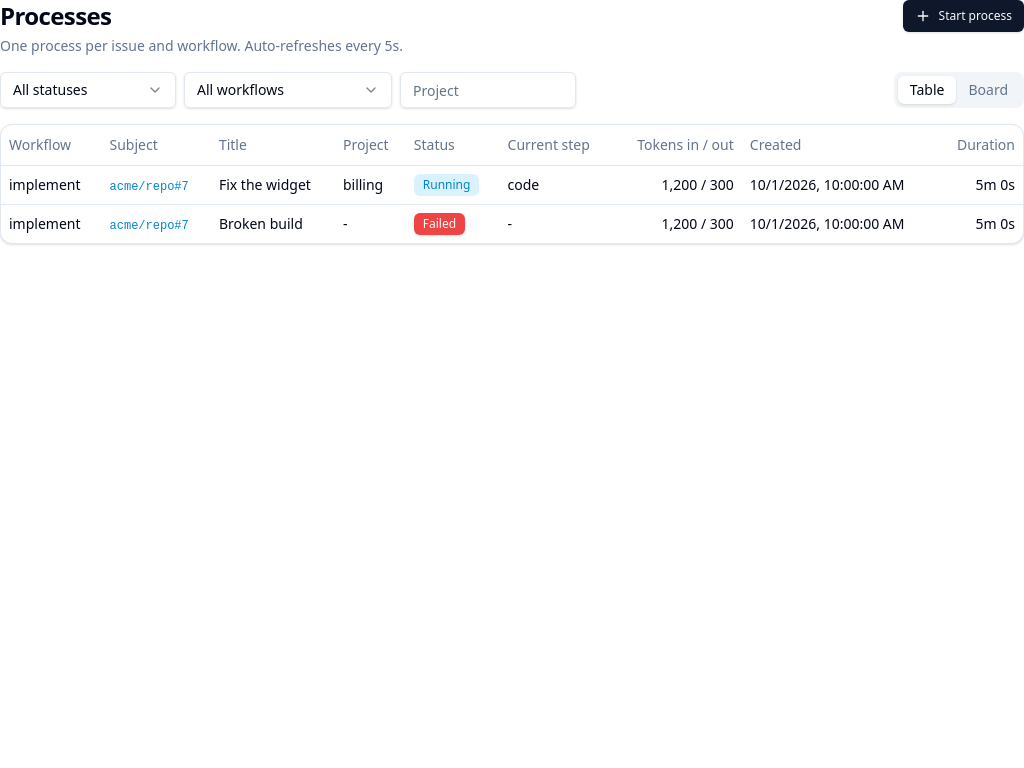
ProcessList › start dialog › disables submit until both fields are filled
Click the button "Start process". click: (963, 16)
box: left=902, top=0, right=1023, bottom=32
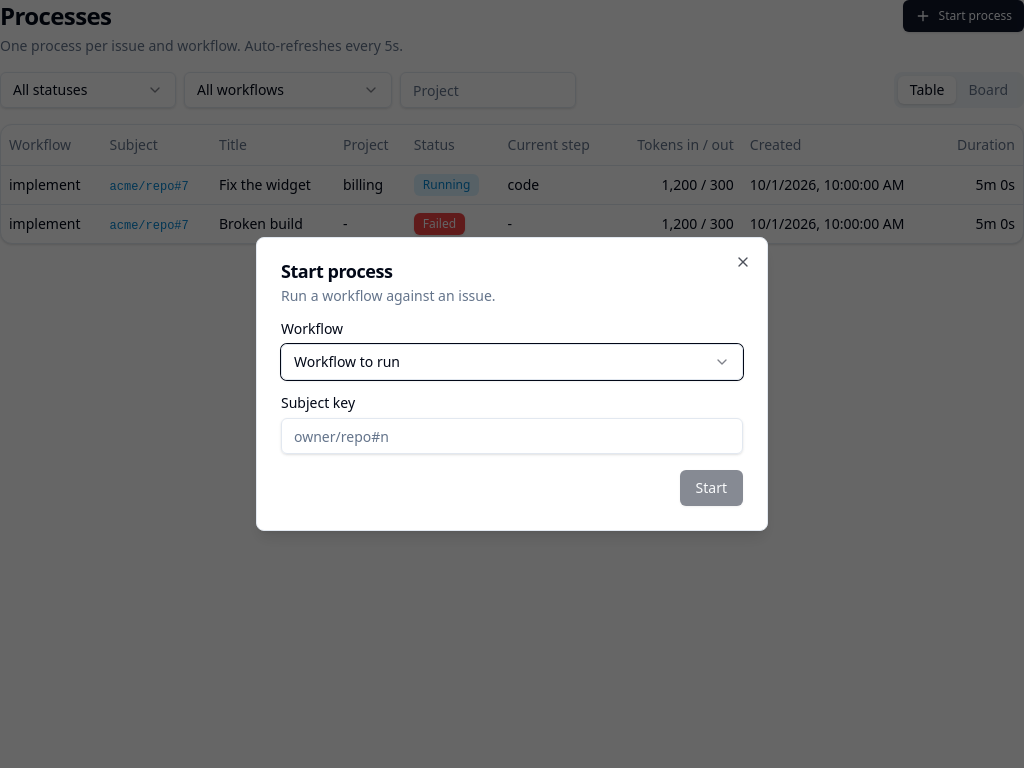
expect the button "Start" is disabled: met, box left=680, top=470, right=743, bottom=506
